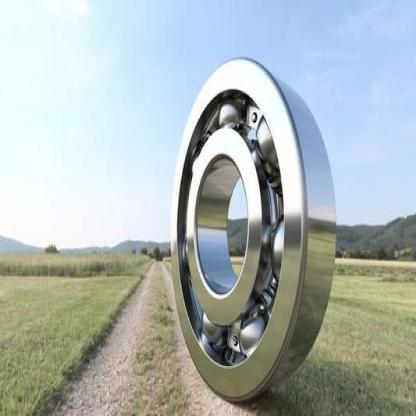FOD: (169, 53, 338, 406)
